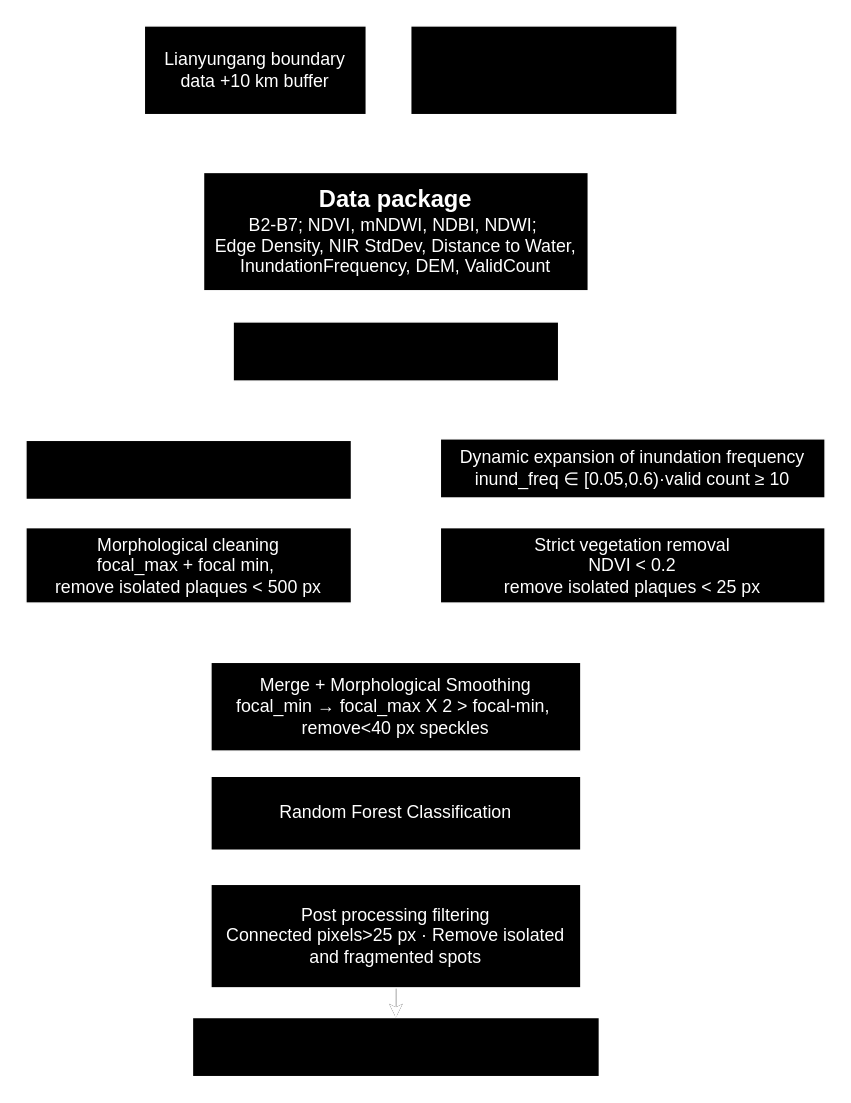
Some shapes in this 851 by 1103 pixel diagram are drawn without their labels. The shapes that lost their labels are listed below. From the top down, each one's centre as x and y in pixels, then its label:
At point 543,69: "2014-2024 Remote sensing data (Sentinel-2/Landsat8)".
At point 395,350: "Physical constraint mask (DEM < 10m)".
At point 188,469: "Murray Global Intertidal Baseline v1.1(2014-2016) U v2 prob>50%(2019)".
At point 395,1046: "Annual tidal flat distribution map".
